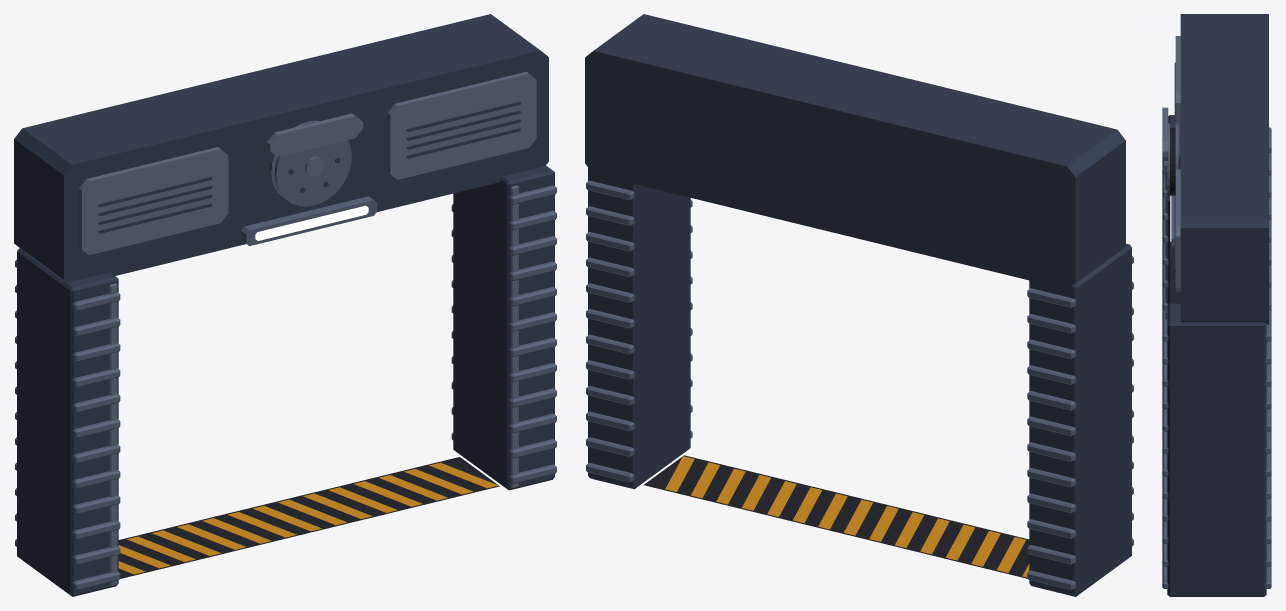
Rendered from bw_freight_lift_frame.glb.
3 renders of one model, left to right at view 1: azimuth 30°, elevation 25°; view 2: azimuth 150°, elevation 25°; view 3: azimuth 270°, elevation 25°, orthographic. The views are drawn at different scales.
Parts seen in each view (by area): view 1: guide, access_cover, lamp_housing, sheave_drum, stripe, diffuser; view 2: guide, lamp_housing, sheave_drum, stripe; view 3: guide, lamp_housing, access_cover, sheave_drum.
Boxes of the visible parts, x1=… form: guide: x1=14, y1=14, x2=554, y2=596; access_cover: x1=79, y1=71, x2=536, y2=586; lamp_housing: x1=15, y1=120, x2=556, y2=590; sheave_drum: x1=118, y1=457, x2=499, y2=578; stripe: x1=118, y1=462, x2=498, y2=574; diffuser: x1=255, y1=205, x2=368, y2=240; guide: x1=585, y1=14, x2=1131, y2=596; lamp_housing: x1=586, y1=180, x2=1133, y2=590; sheave_drum: x1=644, y1=455, x2=1029, y2=578; stripe: x1=665, y1=456, x2=1029, y2=577; guide: x1=1166, y1=14, x2=1268, y2=596; lamp_housing: x1=1162, y1=123, x2=1271, y2=588; access_cover: x1=1162, y1=36, x2=1180, y2=544; sheave_drum: x1=1170, y1=128, x2=1175, y2=195.
Bounding box in the file's own units: 5 × 4.2 × 1.1.
